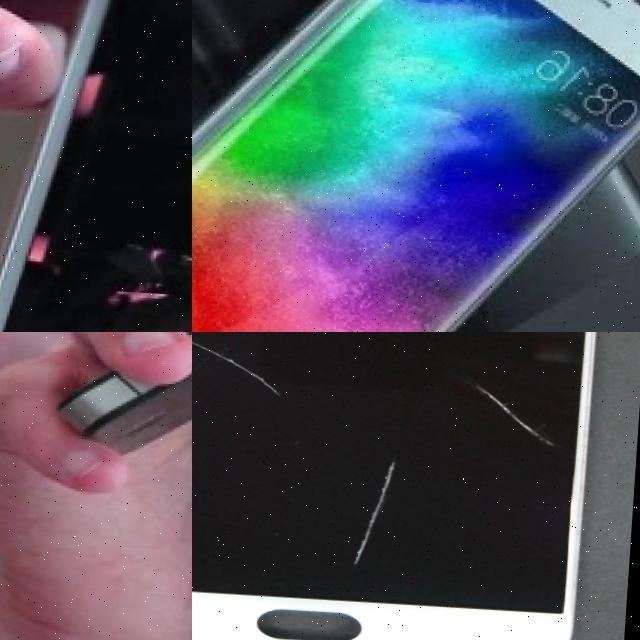scratch: (192, 332, 291, 395), (476, 378, 565, 448), (361, 454, 408, 561)
